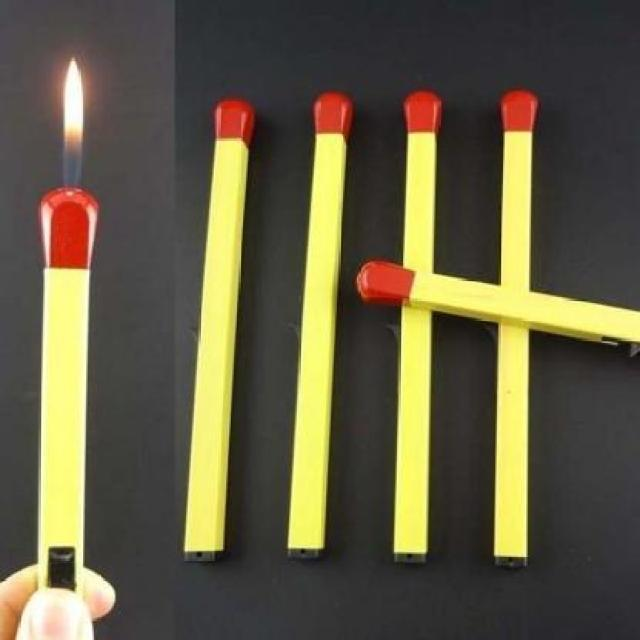Fire: (60, 52, 86, 188)
